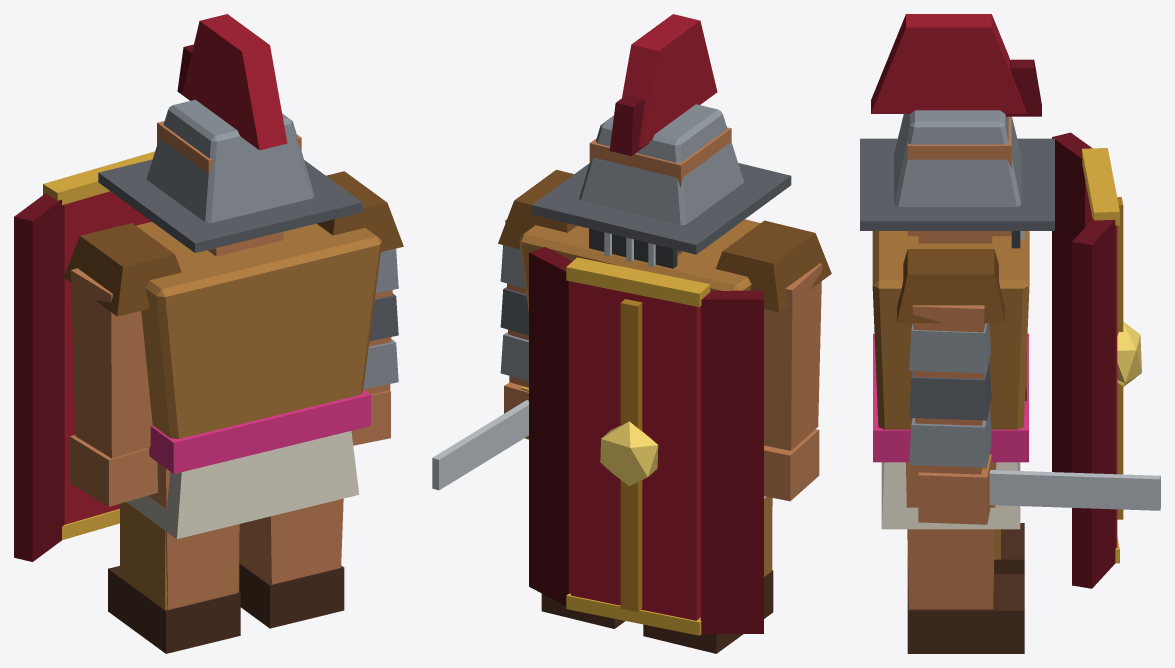
Rendered from EN_Champion.fbx.
3 renders of one model, left to right at view 1: azimuth 30°, elevation 25°; view 2: azimuth 150°, elevation 25°; view 3: azimuth 270°, elevation 25°, orthographic. The views are drawn at different scales.
Parts seen in each view (by area): view 1: Body, WingL, Skirt, Helm, ArmL, Crest, Brim, Belt, LegR, PauldronL, BootL, Shield (+13 smaller); view 2: Shield, WingL, WingR, Helm, ArmL, Brim, Crest, Spine, PauldronL, Body, Blade, RimT (+13 smaller); view 3: WingR, Body, Crest, Helm, Brim, WingL, LegR, BootR, PauldronR, Blade, HandR, Manica2 (+13 smaller).
Boxes of the visible parts, x1=… form: Body: x1=136, y1=222, x2=382, y2=438; WingL: x1=14, y1=193, x2=64, y2=561; Skirt: x1=126, y1=431, x2=359, y2=538; Helm: x1=146, y1=99, x2=314, y2=222; ArmL: x1=71, y1=268, x2=152, y2=458; Crest: x1=182, y1=14, x2=287, y2=150; Brim: x1=98, y1=159, x2=362, y2=252; Belt: x1=149, y1=389, x2=370, y2=473; LegR: x1=239, y1=498, x2=343, y2=584; PauldronL: x1=63, y1=223, x2=181, y2=316; BootL: x1=108, y1=566, x2=240, y2=653; Shield: x1=64, y1=191, x2=151, y2=524; Shield: x1=571, y1=281, x2=700, y2=620; WingL: x1=700, y1=290, x2=763, y2=633; WingR: x1=529, y1=247, x2=572, y2=605; Helm: x1=579, y1=104, x2=743, y2=225; ArmL: x1=764, y1=263, x2=822, y2=450; Brim: x1=532, y1=163, x2=791, y2=254; Crest: x1=622, y1=14, x2=717, y2=147; Spine: x1=620, y1=299, x2=642, y2=611; PauldronL: x1=716, y1=220, x2=831, y2=312; Body: x1=519, y1=219, x2=760, y2=313; Blade: x1=432, y1=400, x2=528, y2=490; RimT: x1=566, y1=257, x2=710, y2=307; WingR: x1=1072, y1=218, x2=1115, y2=588; Body: x1=872, y1=231, x2=1029, y2=429; Crest: x1=871, y1=14, x2=1026, y2=113; Helm: x1=894, y1=110, x2=1021, y2=206; Brim: x1=860, y1=138, x2=1054, y2=230; WingL: x1=1052, y1=132, x2=1092, y2=472; LegR: x1=906, y1=462, x2=996, y2=609; BootR: x1=907, y1=574, x2=1024, y2=653; PauldronR: x1=897, y1=249, x2=1005, y2=323; Blade: x1=989, y1=470, x2=1160, y2=510; HandR: x1=918, y1=454, x2=992, y2=524; Manica2: x1=909, y1=406, x2=991, y2=467.
Size of the model in its own units: 1.67 by 1.39 by 3.
